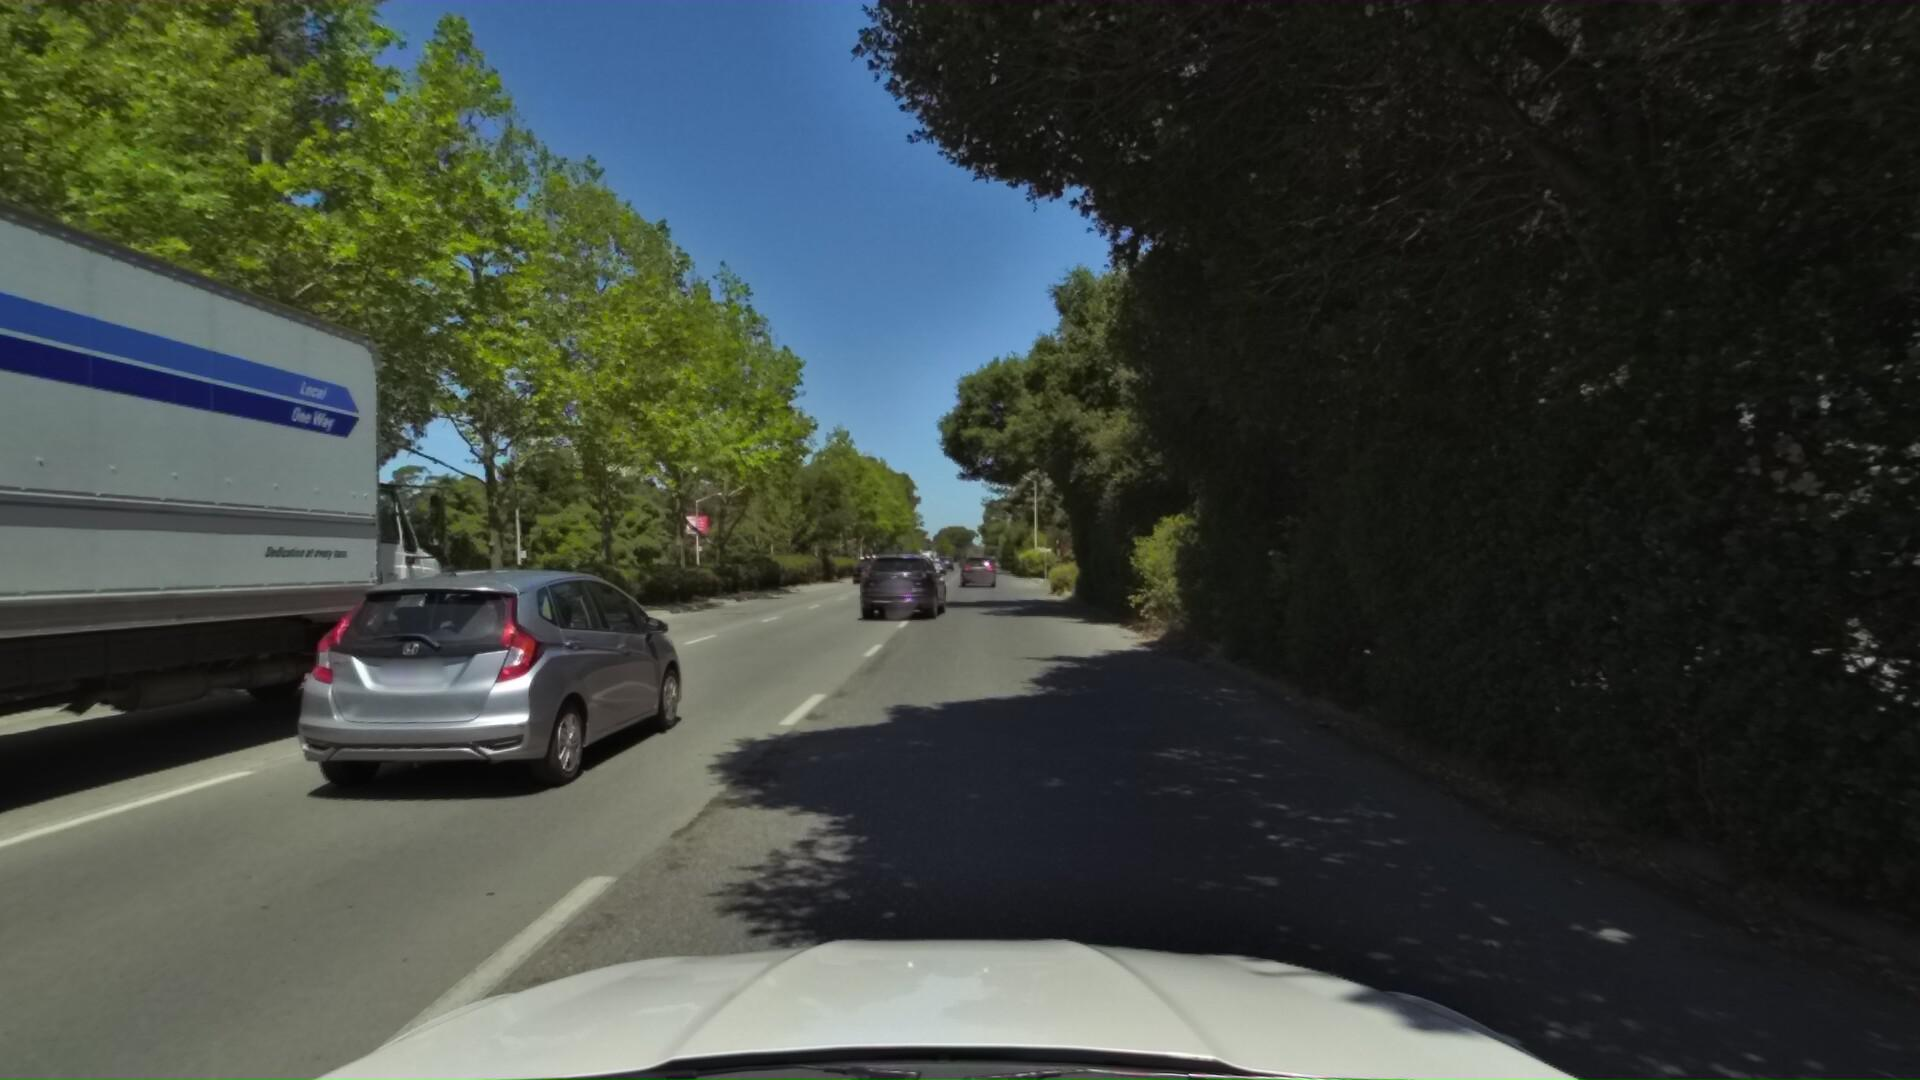car: (251, 560, 708, 819), (849, 543, 955, 622), (855, 553, 916, 601), (957, 550, 997, 585), (841, 555, 880, 582)
